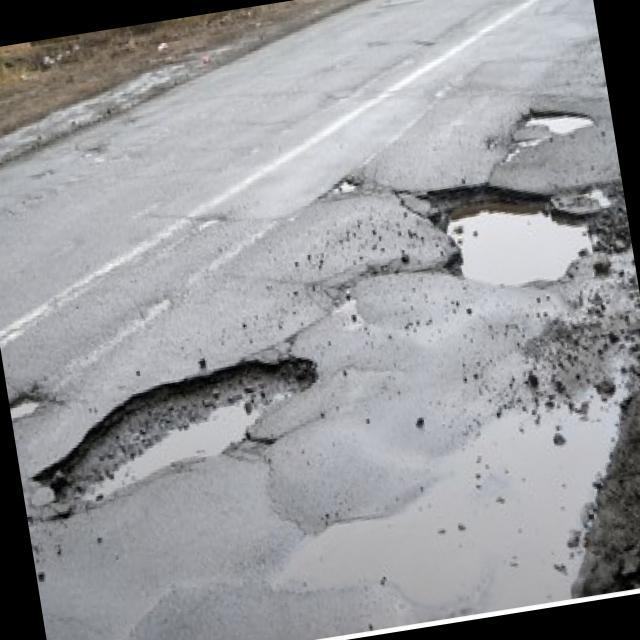Pothole: (18, 348, 334, 513), (422, 162, 602, 301), (520, 98, 598, 144), (8, 389, 46, 426), (322, 173, 359, 198)
